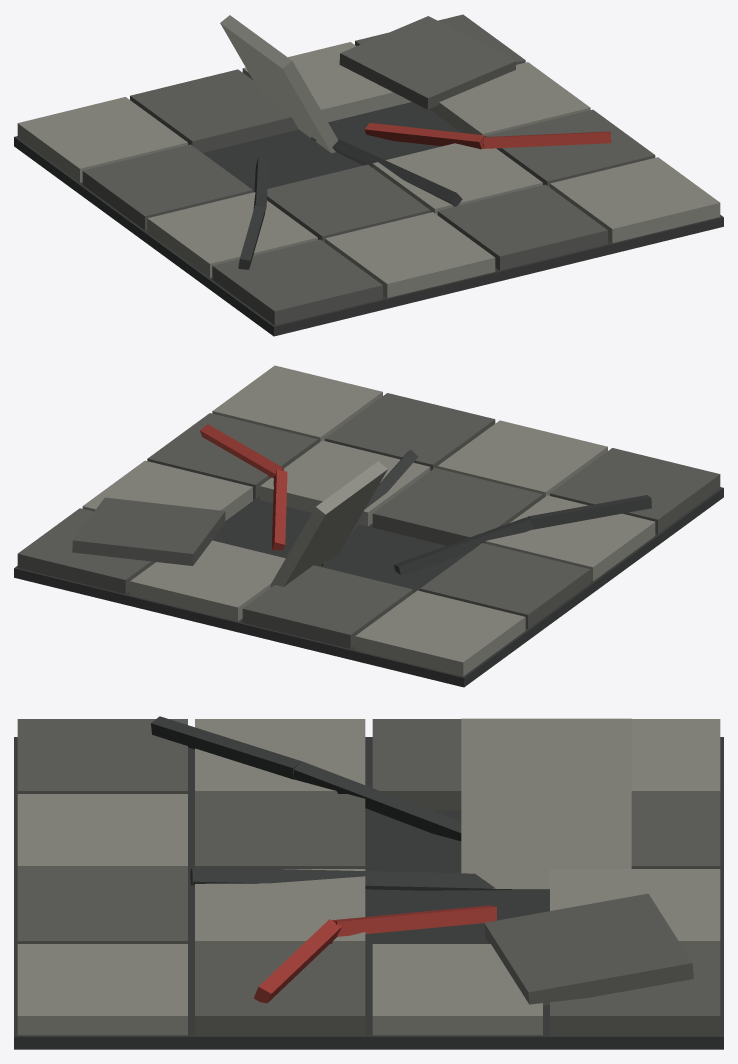
Rendered from terminal_room_cable_floor.glb.
The picture shows the model from 3 angles, top to bottom: view 1: azimuth 30°, elevation 25°; view 2: azimuth 150°, elevation 25°; view 3: azimuth 270°, elevation 25°; orthographic projection. The views are drawn at different scales.
Parts seen in each view (by area): view 1: terminal_room_cable_floor_mesh; view 2: terminal_room_cable_floor_mesh; view 3: terminal_room_cable_floor_mesh.
Boxes of the visible parts, box(x1,y1,x2,y2) form: terminal_room_cable_floor_mesh: box(14, 14, 723, 336); terminal_room_cable_floor_mesh: box(14, 365, 723, 687); terminal_room_cable_floor_mesh: box(14, 716, 723, 1049).
Bounding box in the file's own units: 2 × 0.4736 × 2.
